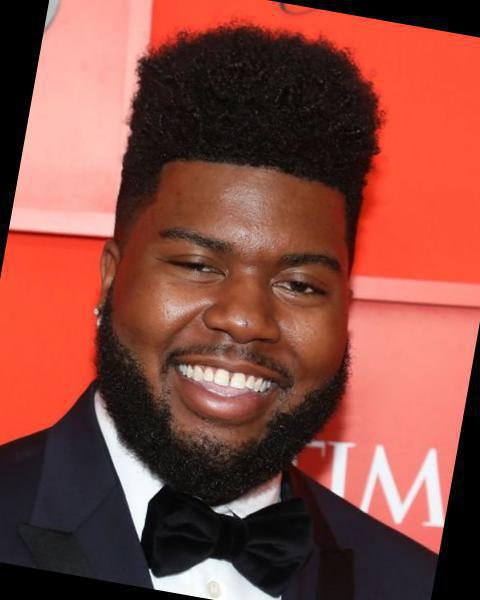Sober: (112, 164, 342, 468)
